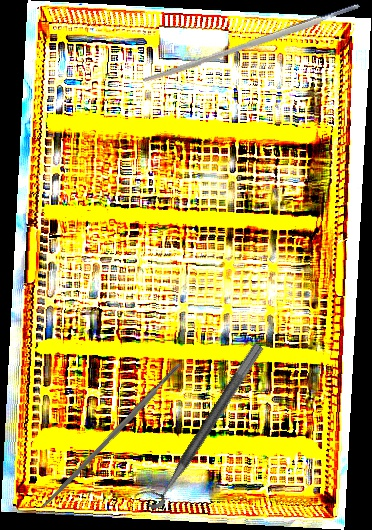Fixation Ring: (133, 333, 266, 513)
Scalpel Handle: (39, 361, 185, 511), (141, 1, 362, 87)
